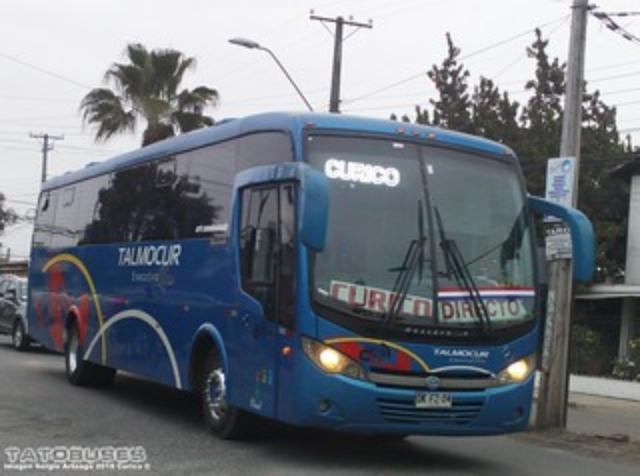bus: (26, 106, 542, 440)
